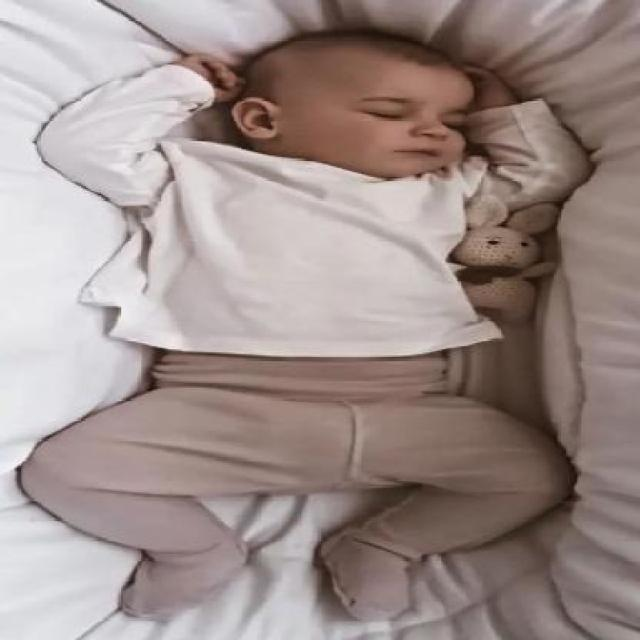baby: (15, 29, 592, 616)
